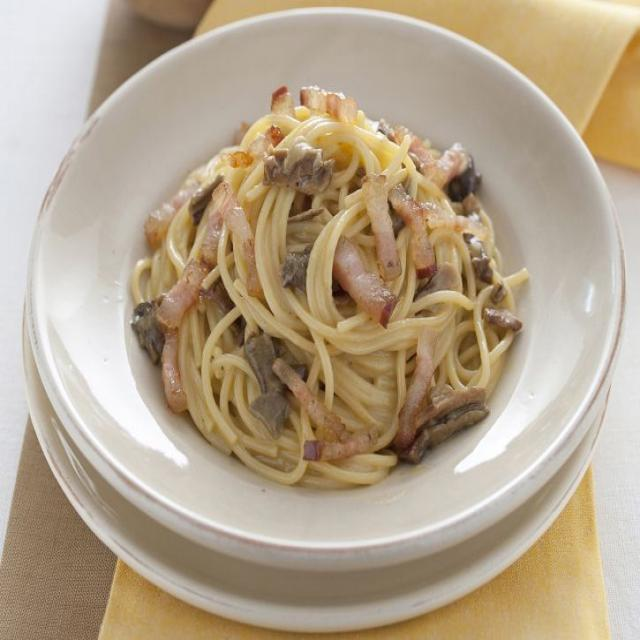Pasta with carbonara sauce: (128, 65, 548, 515)
